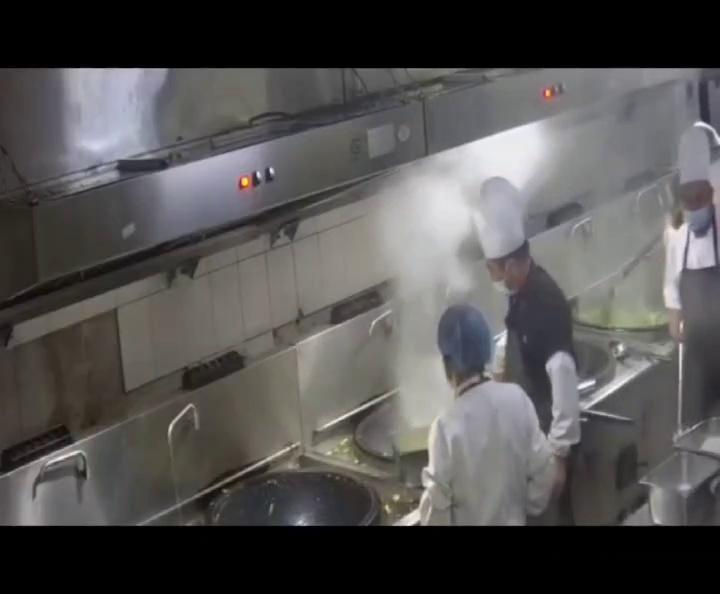mask: (486, 264, 514, 295)
